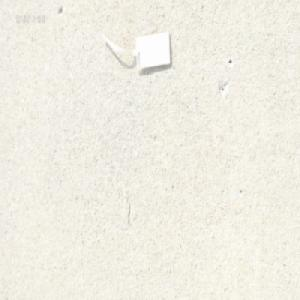LuggageTag: (99, 28, 173, 74)
